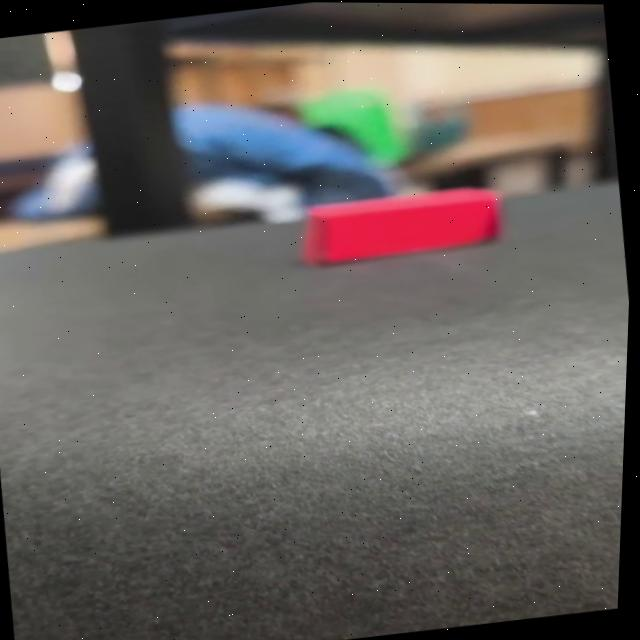red block: (292, 178, 505, 268)
